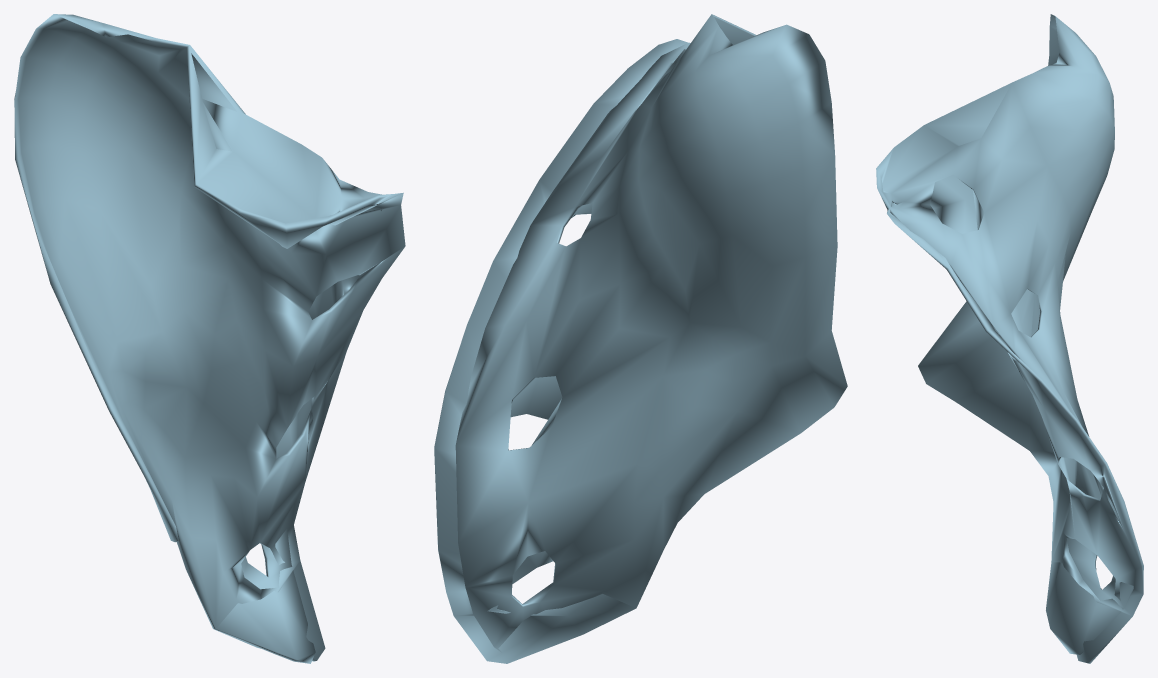
File: articulacoes-posterior-sacro-iliac-ligament-r.glb
The picture shows the model from 3 angles, left to right: view 1: azimuth 30°, elevation 25°; view 2: azimuth 150°, elevation 25°; view 3: azimuth 270°, elevation 25°; orthographic projection. The views are drawn at different scales.
Parts seen in each view (by area): view 1: Posterior sacro-iliac ligament.r; view 2: Posterior sacro-iliac ligament.r; view 3: Posterior sacro-iliac ligament.r.
Part boxes in pixels (left/top/right/bottom): Posterior sacro-iliac ligament.r: left=14, top=14, right=405, bottom=663; Posterior sacro-iliac ligament.r: left=434, top=14, right=847, bottom=663; Posterior sacro-iliac ligament.r: left=876, top=14, right=1143, bottom=663.
Size of the model in its own units: 0.0507 by 0.0951 by 0.0424.
